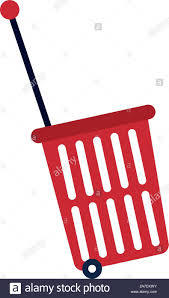with_basket: (1, 1, 169, 275)
